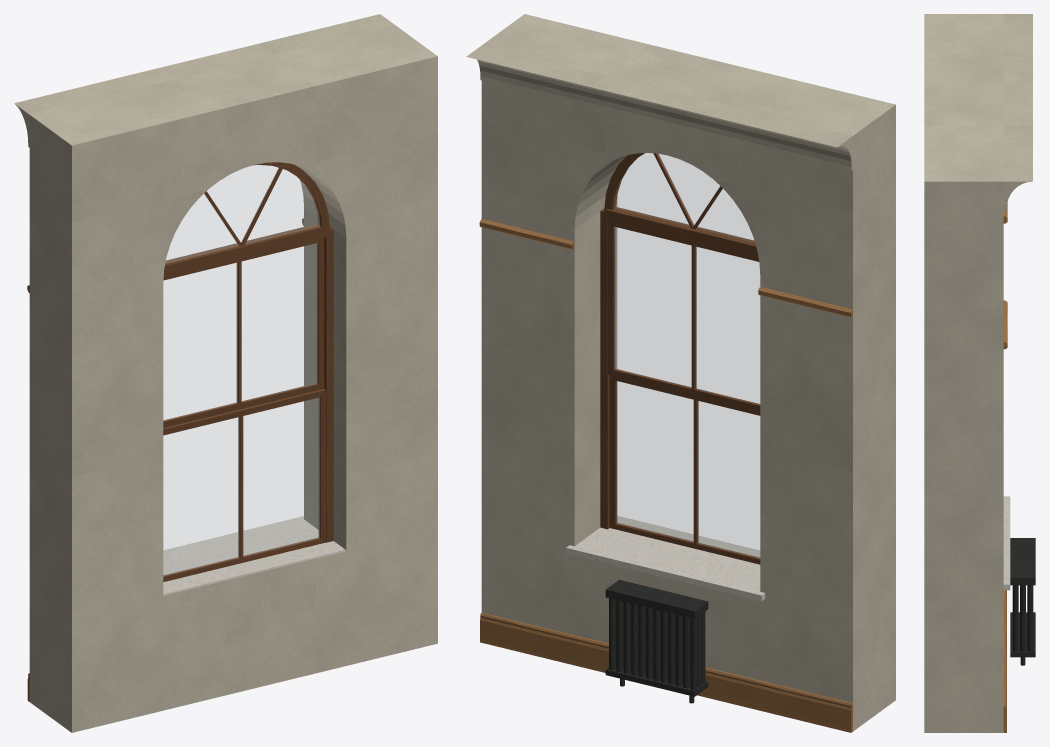
File: X14_ARCH_Wall_Window_300.glb
The picture shows the model from 3 angles, left to right: view 1: azimuth 30°, elevation 25°; view 2: azimuth 150°, elevation 25°; view 3: azimuth 270°, elevation 25°; orthographic projection. The views are drawn at different scales.
Parts seen in each view (by area): view 1: X14_ARCH_Wall_Window_300_LOD0, X14_ARCH_Wall_Window_300_Glass_LOD0; view 2: X14_ARCH_Wall_Window_300_LOD0, X14_ARCH_Wall_Window_300_Glass_LOD0; view 3: X14_ARCH_Wall_Window_300_LOD0.
Part boxes in pixels (x1,y1,x2,y2): X14_ARCH_Wall_Window_300_LOD0: [14, 14, 437, 732]; X14_ARCH_Wall_Window_300_Glass_LOD0: [163, 165, 319, 575]; X14_ARCH_Wall_Window_300_LOD0: [466, 14, 895, 732]; X14_ARCH_Wall_Window_300_Glass_LOD0: [614, 153, 759, 557]; X14_ARCH_Wall_Window_300_LOD0: [924, 14, 1035, 732].
Size of what is drawn, in the model's own units: 3 by 4.6 by 0.84.
Materials: 6 (5 with a texture image).
